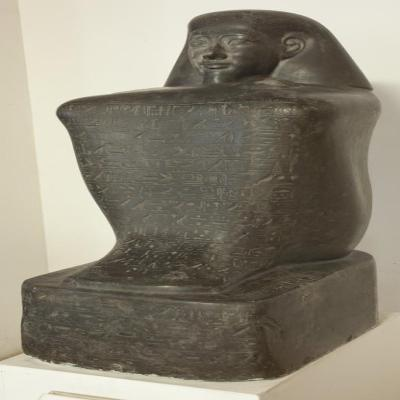sculpture: (20, 10, 382, 386)
